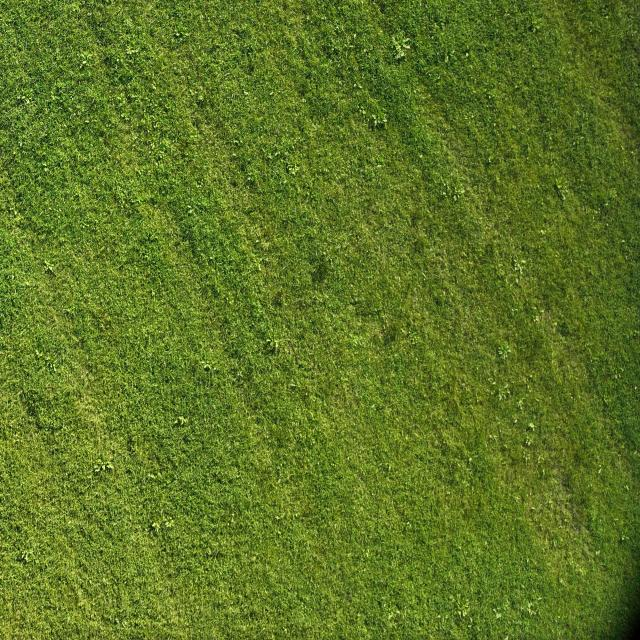rumex: (302, 214, 362, 294), (251, 117, 309, 187), (74, 458, 122, 502), (446, 594, 475, 628), (596, 2, 628, 32), (389, 29, 413, 65), (358, 102, 388, 130), (21, 393, 45, 426), (492, 378, 514, 404), (318, 37, 340, 61), (522, 417, 538, 448), (92, 460, 116, 478), (552, 175, 569, 200), (15, 91, 34, 110), (140, 471, 160, 487), (243, 175, 258, 192), (173, 25, 189, 40), (173, 413, 188, 428), (453, 184, 465, 200), (267, 338, 280, 352), (125, 46, 140, 58), (526, 602, 538, 616), (230, 369, 241, 384), (44, 260, 56, 273), (504, 343, 514, 357), (148, 524, 158, 537), (199, 360, 211, 370), (117, 95, 127, 107), (391, 607, 401, 619), (499, 349, 509, 361), (328, 196, 338, 208), (24, 549, 34, 560), (554, 178, 564, 189), (151, 521, 161, 532), (325, 255, 335, 266), (228, 178, 238, 189), (164, 519, 174, 529), (512, 260, 521, 271), (72, 189, 81, 200), (608, 191, 618, 200), (154, 469, 162, 480), (538, 308, 545, 320), (516, 399, 523, 411), (274, 513, 283, 522), (448, 50, 456, 60), (358, 106, 366, 116), (144, 113, 152, 123), (265, 337, 273, 347), (443, 52, 451, 62), (150, 82, 158, 92), (614, 370, 622, 380), (93, 464, 101, 474), (537, 454, 545, 464), (494, 610, 502, 620), (387, 613, 394, 624), (34, 350, 42, 359), (49, 93, 57, 102), (85, 52, 93, 61), (134, 167, 142, 176), (528, 24, 536, 33), (433, 23, 441, 32), (289, 381, 297, 390), (527, 421, 535, 430), (464, 44, 471, 54), (376, 156, 383, 166), (412, 88, 419, 98), (11, 208, 18, 218), (310, 124, 318, 132), (502, 632, 511, 639), (552, 320, 558, 330), (150, 288, 156, 298), (422, 270, 428, 280), (230, 513, 235, 525), (257, 261, 262, 273), (197, 94, 204, 102), (533, 315, 540, 323), (80, 61, 88, 68), (174, 30, 181, 38), (488, 434, 496, 441), (514, 495, 521, 503), (621, 534, 628, 542), (354, 84, 360, 93), (187, 206, 193, 215), (522, 453, 528, 462), (559, 577, 565, 586), (387, 462, 392, 472), (84, 117, 91, 124), (463, 53, 469, 61), (512, 416, 518, 424), (405, 520, 411, 528), (624, 483, 630, 491), (282, 626, 288, 634), (525, 382, 530, 391), (541, 467, 546, 476), (243, 90, 249, 97), (621, 239, 627, 246), (418, 153, 424, 160), (594, 549, 600, 556), (334, 23, 339, 31), (396, 276, 401, 284), (515, 277, 520, 285), (453, 194, 458, 202), (597, 466, 602, 474), (527, 144, 531, 154), (488, 94, 494, 100), (540, 230, 546, 236), (636, 150, 640, 159), (572, 140, 577, 147), (528, 374, 533, 381), (625, 254, 630, 261), (301, 98, 306, 104), (491, 380, 496, 386), (468, 456, 472, 463), (488, 156, 492, 162), (493, 122, 497, 128), (604, 15, 608, 20), (637, 385, 640, 391)
